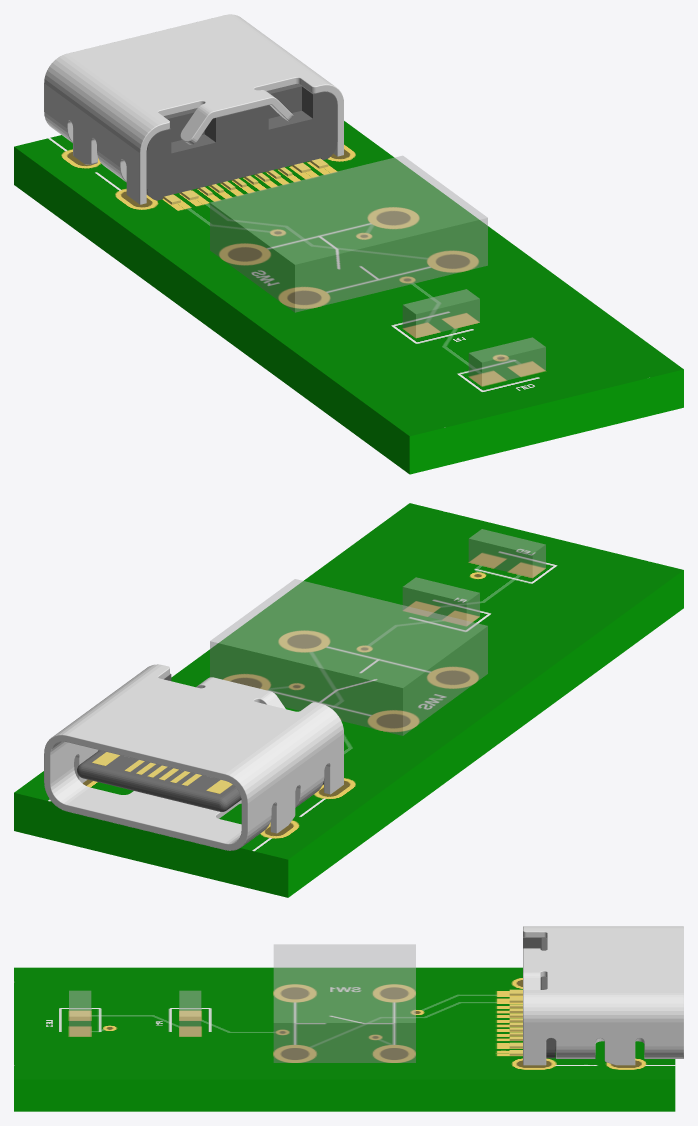
Rendered from circuit.gltf.
3 views of the same model, one above another, from view 1: azimuth 30°, elevation 25°; view 2: azimuth 150°, elevation 25°; view 3: azimuth 270°, elevation 25° (orthographic). The views are drawn at different scales.
Parts seen in each view (by area): view 1: Box0, OBJBox1, SW1, LED, R1; view 2: Box0, OBJBox1, SW1, LED, R1; view 3: Box0, OBJBox1, SW1, LED, R1.
Boxes of the visible parts, left/top/right/bottom form: Box0: left=14, top=121, right=683, bottom=474; OBJBox1: left=44, top=14, right=343, bottom=204; SW1: left=210, top=155, right=487, bottom=312; LED: left=468, top=337, right=545, bottom=386; R1: left=402, top=289, right=479, bottom=337; Box0: left=14, top=503, right=683, bottom=897; OBJBox1: left=44, top=664, right=343, bottom=850; SW1: left=210, top=579, right=487, bottom=735; LED: left=468, top=529, right=545, bottom=577; R1: left=402, top=577, right=479, bottom=625; Box0: left=14, top=967, right=675, bottom=1111; OBJBox1: left=509, top=926, right=683, bottom=1065; SW1: left=273, top=944, right=415, bottom=1062; LED: left=69, top=990, right=91, bottom=1036; R1: left=179, top=990, right=201, bottom=1036.
Bounding box in the file's own units: 12 × 4.75 × 30.39.
Materials: 10 (2 with a texture image).
